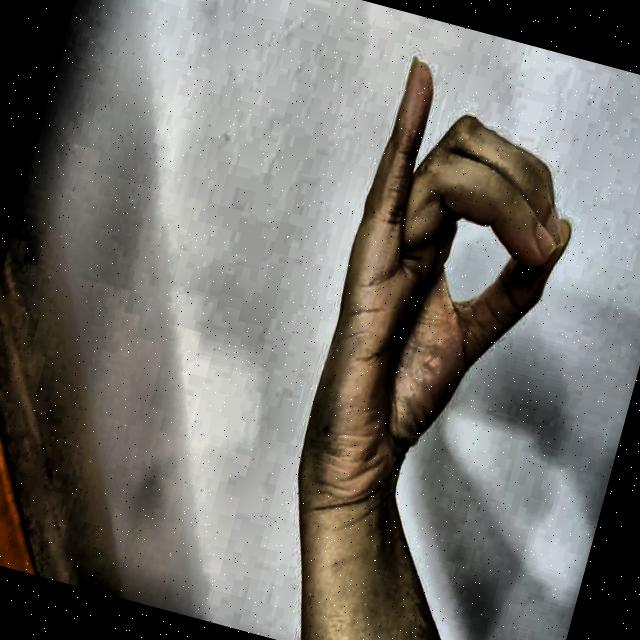Ou: (264, 31, 618, 592)
